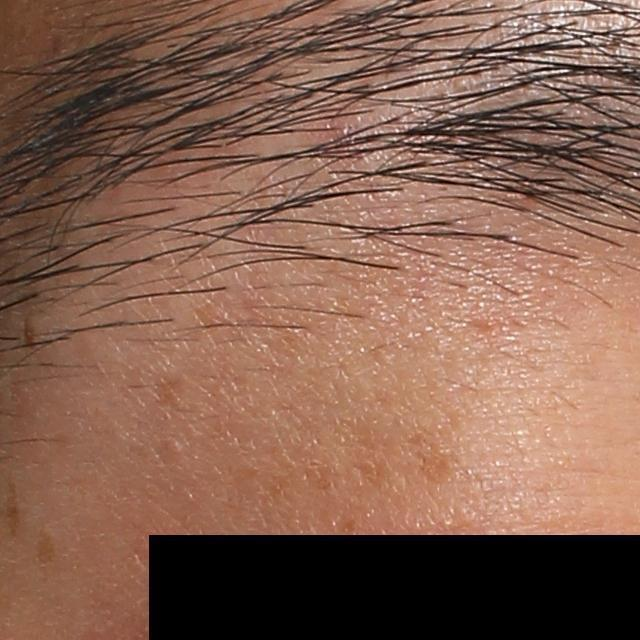melasma: (406, 425, 457, 485), (148, 368, 193, 418), (3, 477, 24, 540), (30, 527, 59, 572)
